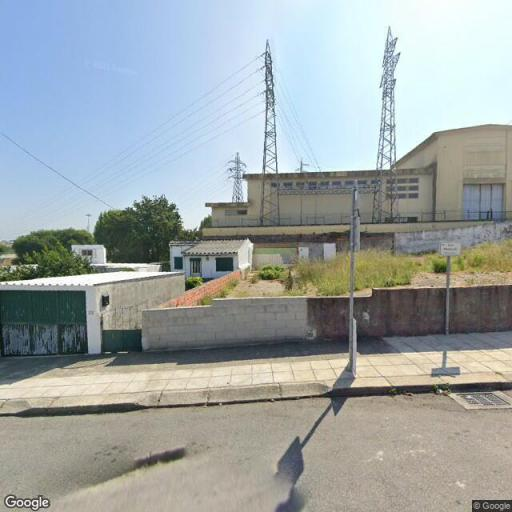ss_3: (374, 26, 401, 228), (258, 40, 284, 224), (226, 151, 246, 200)
